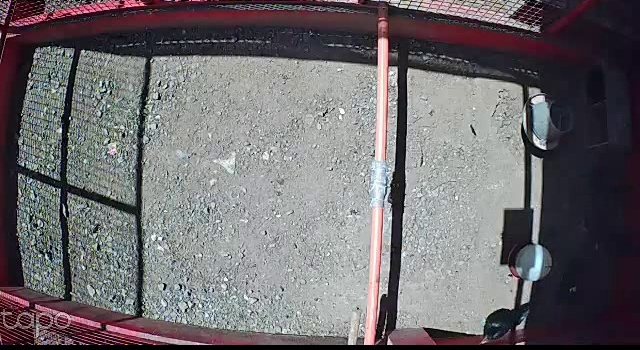Chicken: (478, 300, 536, 349)
Drinker: (506, 242, 556, 282)
Feeder: (518, 90, 576, 151)
